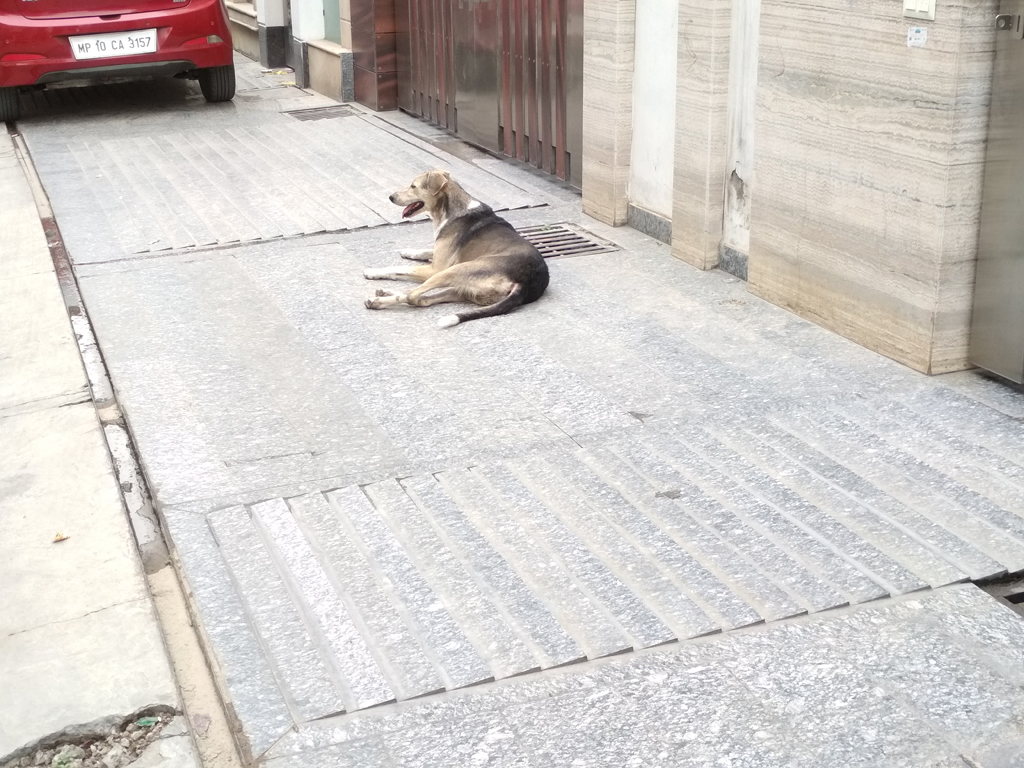dog: (363, 168, 549, 328)
